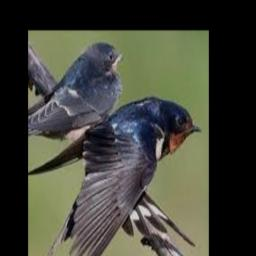Swallow: (28, 97, 202, 256), (28, 41, 122, 133)
